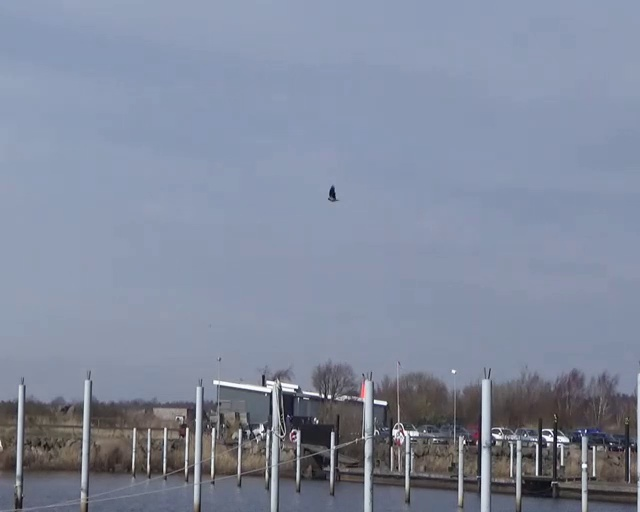BIRD: (328, 185, 339, 201)
